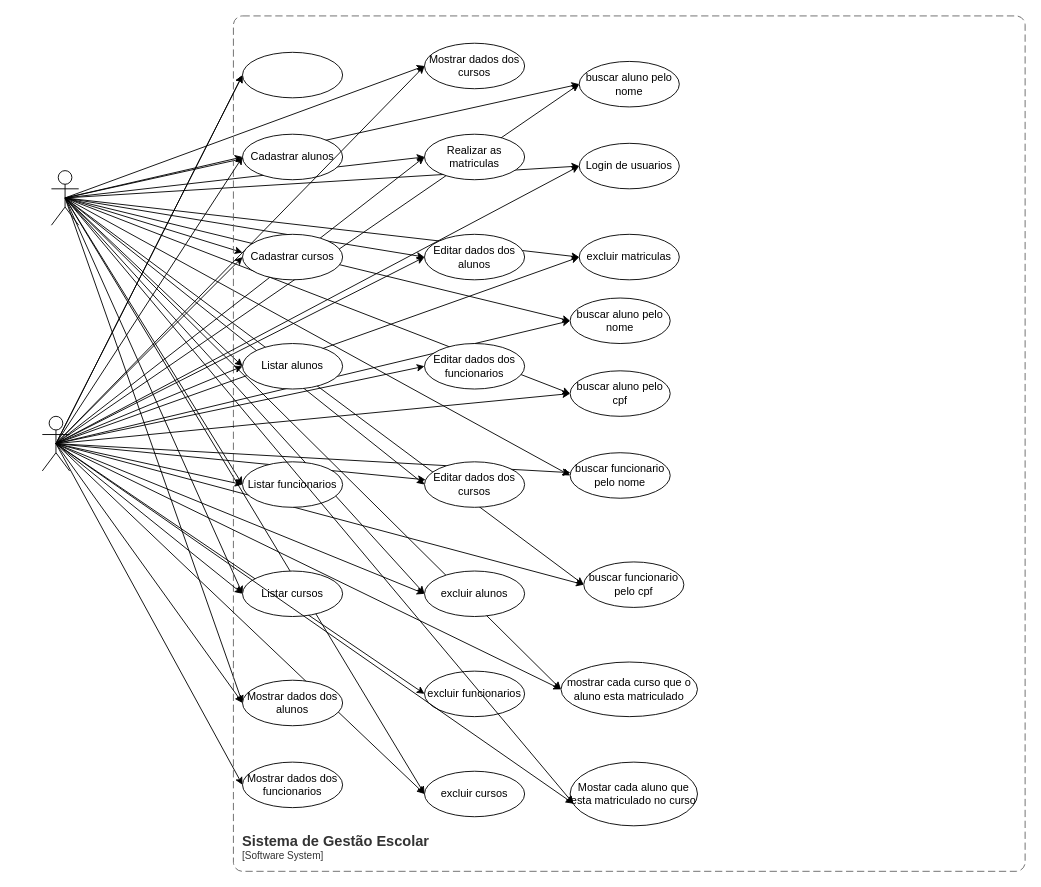
Image size: 1041x887. Some labels were removed from this diagram. The centre of each missing label's shape, as x and y in pixels:
Adiministradores: the point at 55,443
Cadastrar funcionarios: the point at 292,74
Colaboradores: the point at 65,197
